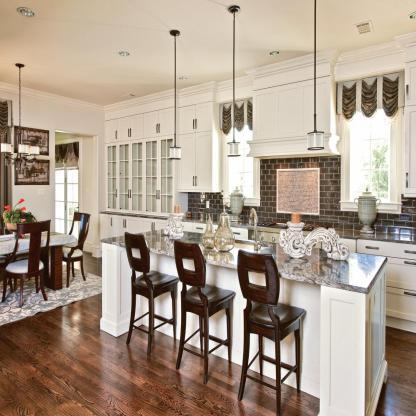chair: (234, 250, 312, 415), (172, 244, 235, 379), (117, 234, 173, 358), (0, 219, 54, 305), (57, 205, 94, 286)
light: (222, 2, 244, 164), (164, 18, 186, 165), (304, 0, 324, 152), (4, 0, 49, 20), (106, 43, 142, 61), (177, 72, 191, 88), (275, 44, 283, 56)
table: (83, 224, 389, 416), (0, 224, 77, 291)
